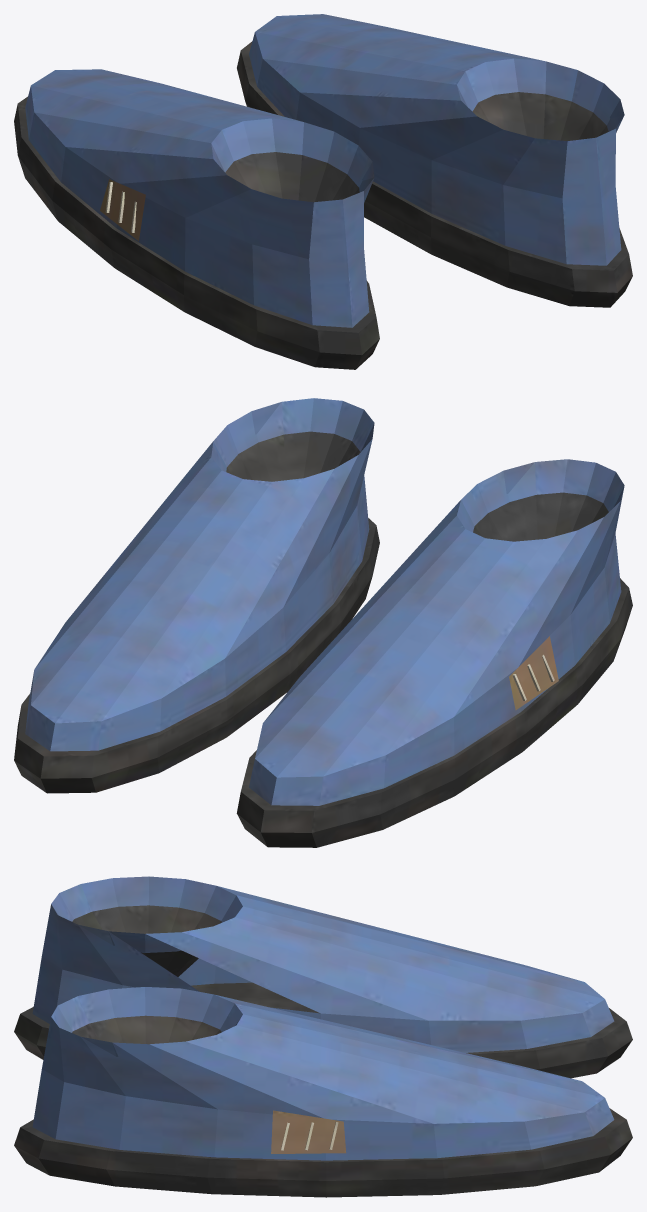
Rendered from D10_old_shoes_pair_v2.glb.
3 renders of one model, top to bottom at view 1: azimuth 30°, elevation 25°; view 2: azimuth 150°, elevation 25°; view 3: azimuth 270°, elevation 25°, orthographic. The views are drawn at different scales.
Parts seen in each view (by area): view 1: Cracked layered sole; view 2: Cracked layered sole; view 3: Cracked layered sole.
Boxes of the visible parts, x1=… form: Cracked layered sole: x1=14, y1=14, x2=632, y2=369; Cracked layered sole: x1=14, y1=398, x2=632, y2=847; Cracked layered sole: x1=14, y1=876, x2=632, y2=1197.
Size of the model in its own units: 0.2159 by 0.0782 by 0.3.
6 materials, 6 textured.
